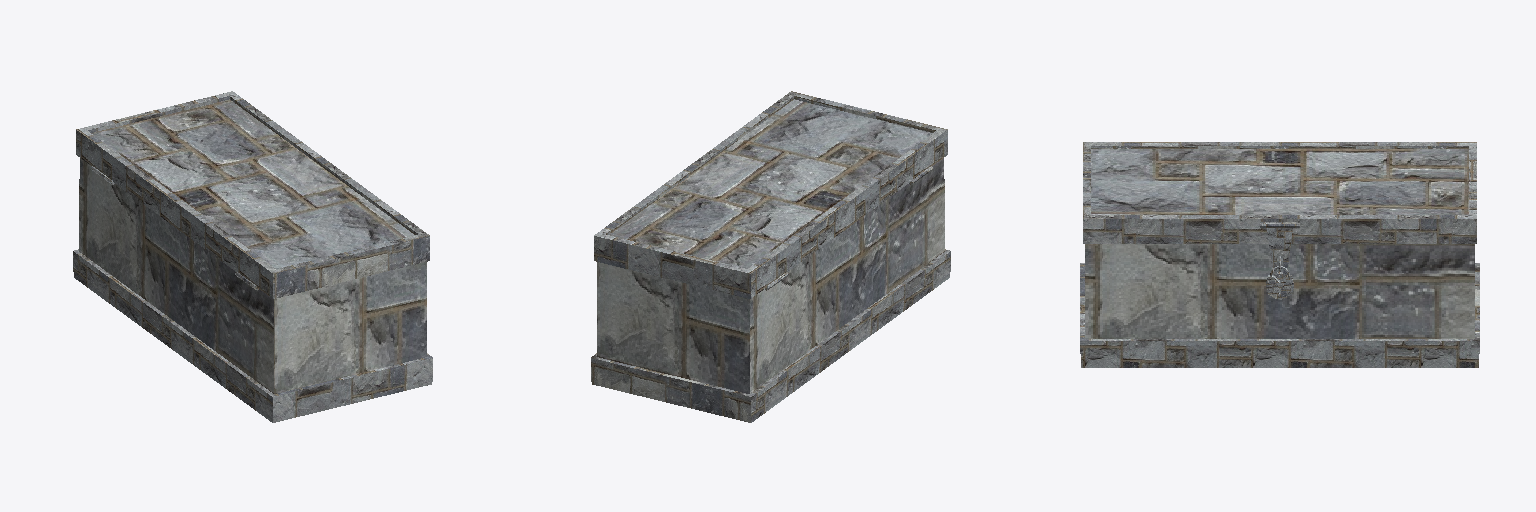
3 renders of one model, left to right at view 1: azimuth 30°, elevation 25°; view 2: azimuth 150°, elevation 25°; view 3: azimuth 270°, elevation 25°, orthographic.
Parts seen in each view (by area): view 1: Box001; view 2: Box001; view 3: Box001.
Part boxes in pixels (bbox=[...]): Box001: bbox=[73, 91, 432, 422]; Box001: bbox=[591, 91, 950, 422]; Box001: bbox=[1080, 142, 1479, 367].
Size of the model in its own units: 8.37 by 7.11 by 17.37.
Materials: 4 (1 with a texture image).